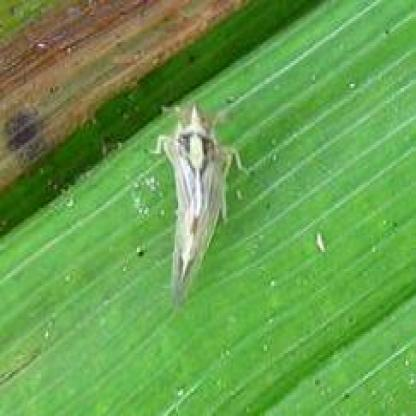brown-planthopper: (158, 112, 225, 308)
